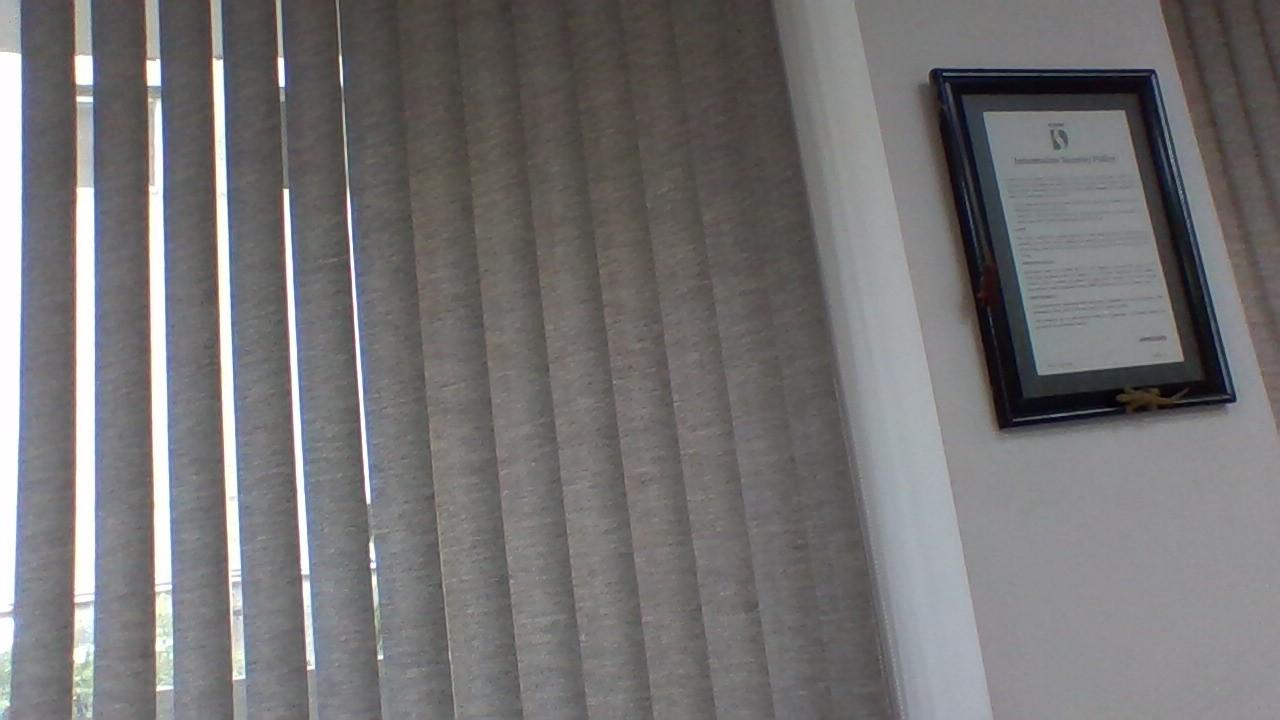cockroach: (963, 229, 1013, 342)
lizard: (1095, 376, 1213, 429)
